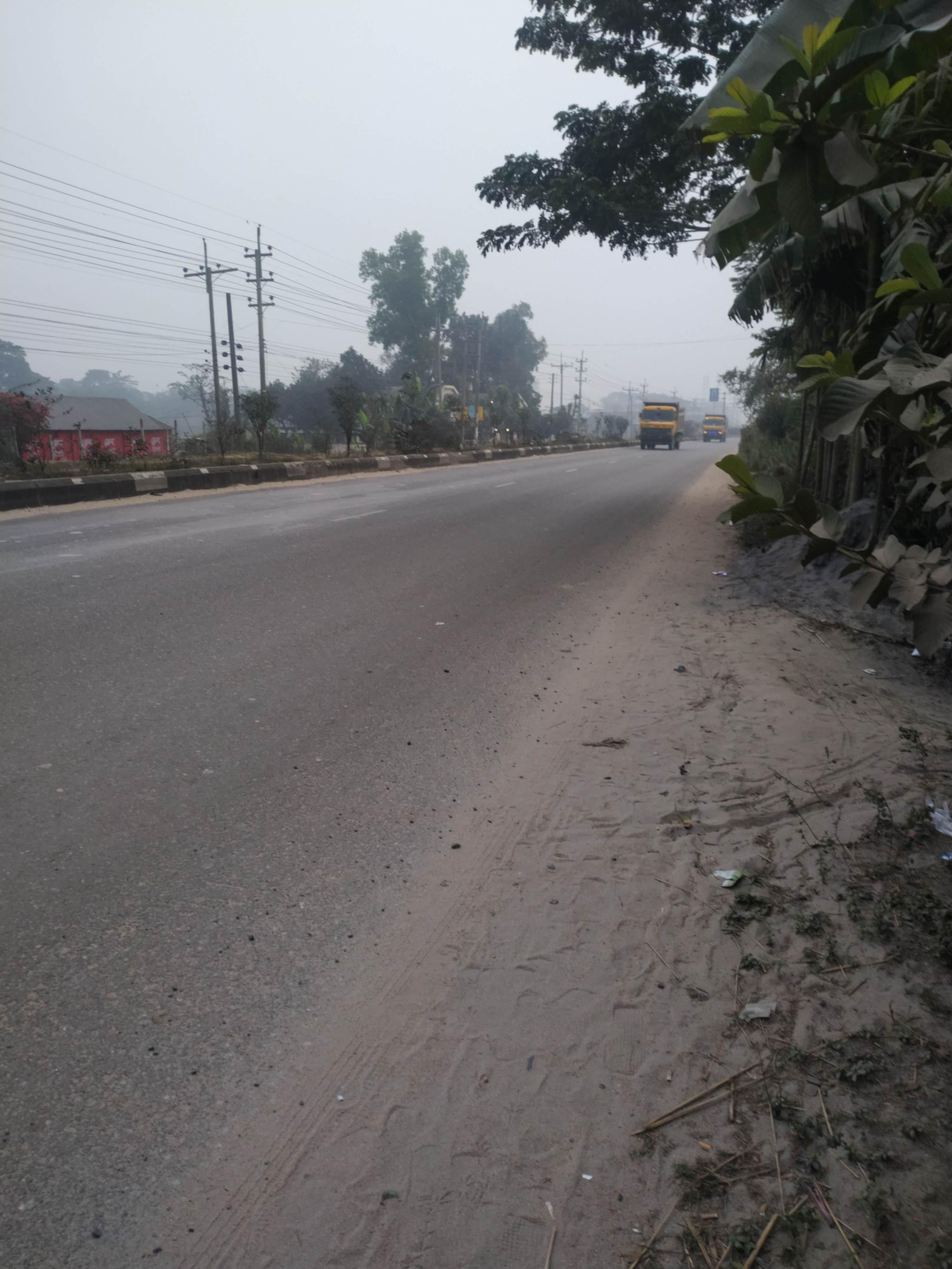Truck: (627, 389, 697, 474), (698, 404, 748, 457)
